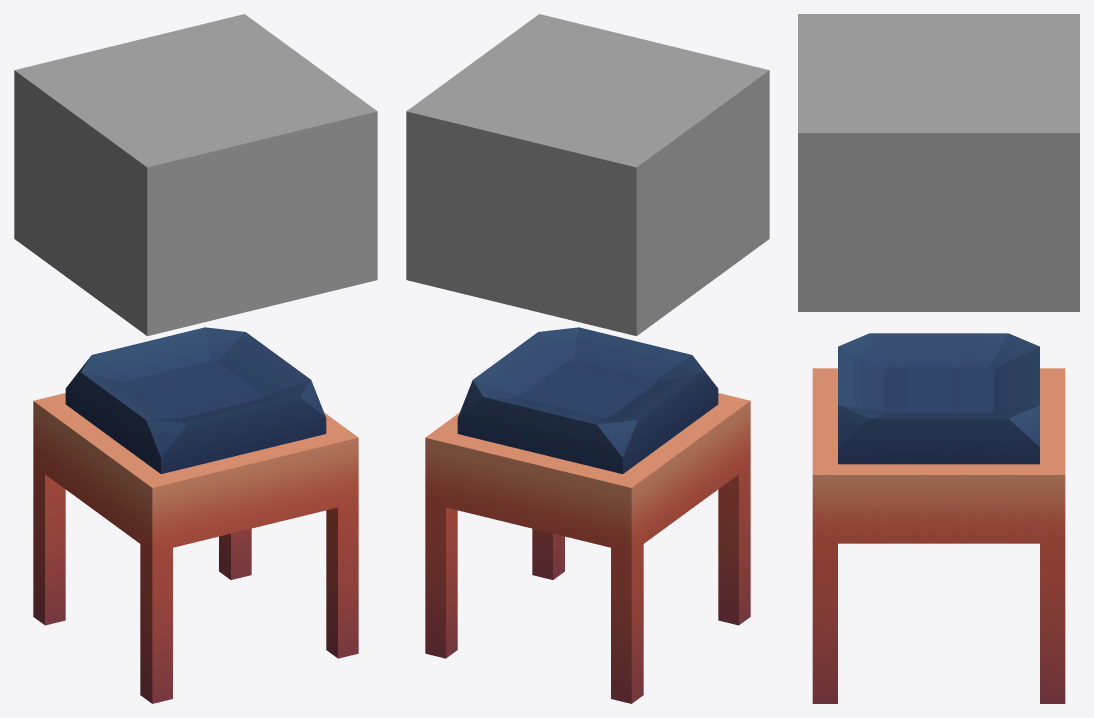
File: display cabinet.fbx
3 views of the same model, side by side, from view 1: azimuth 30°, elevation 25°; view 2: azimuth 150°, elevation 25°; view 3: azimuth 270°, elevation 25° (orthographic). The views are drawn at different scales.
Parts seen in each view (by area): view 1: Glass, Wood, Pillow; view 2: Glass, Wood, Pillow; view 3: Glass, Wood, Pillow.
Part boxes in pixels (x1,y1,x2,y2): Glass: [14, 14, 377, 335]; Wood: [33, 393, 358, 703]; Pillow: [65, 327, 326, 474]; Glass: [406, 14, 769, 335]; Wood: [425, 393, 750, 703]; Pillow: [457, 327, 718, 474]; Glass: [798, 14, 1079, 311]; Wood: [812, 368, 1065, 703]; Pillow: [838, 333, 1039, 464].
Bounding box in the file's own units: 112 × 252 × 112.
3 materials, 2 textured.
